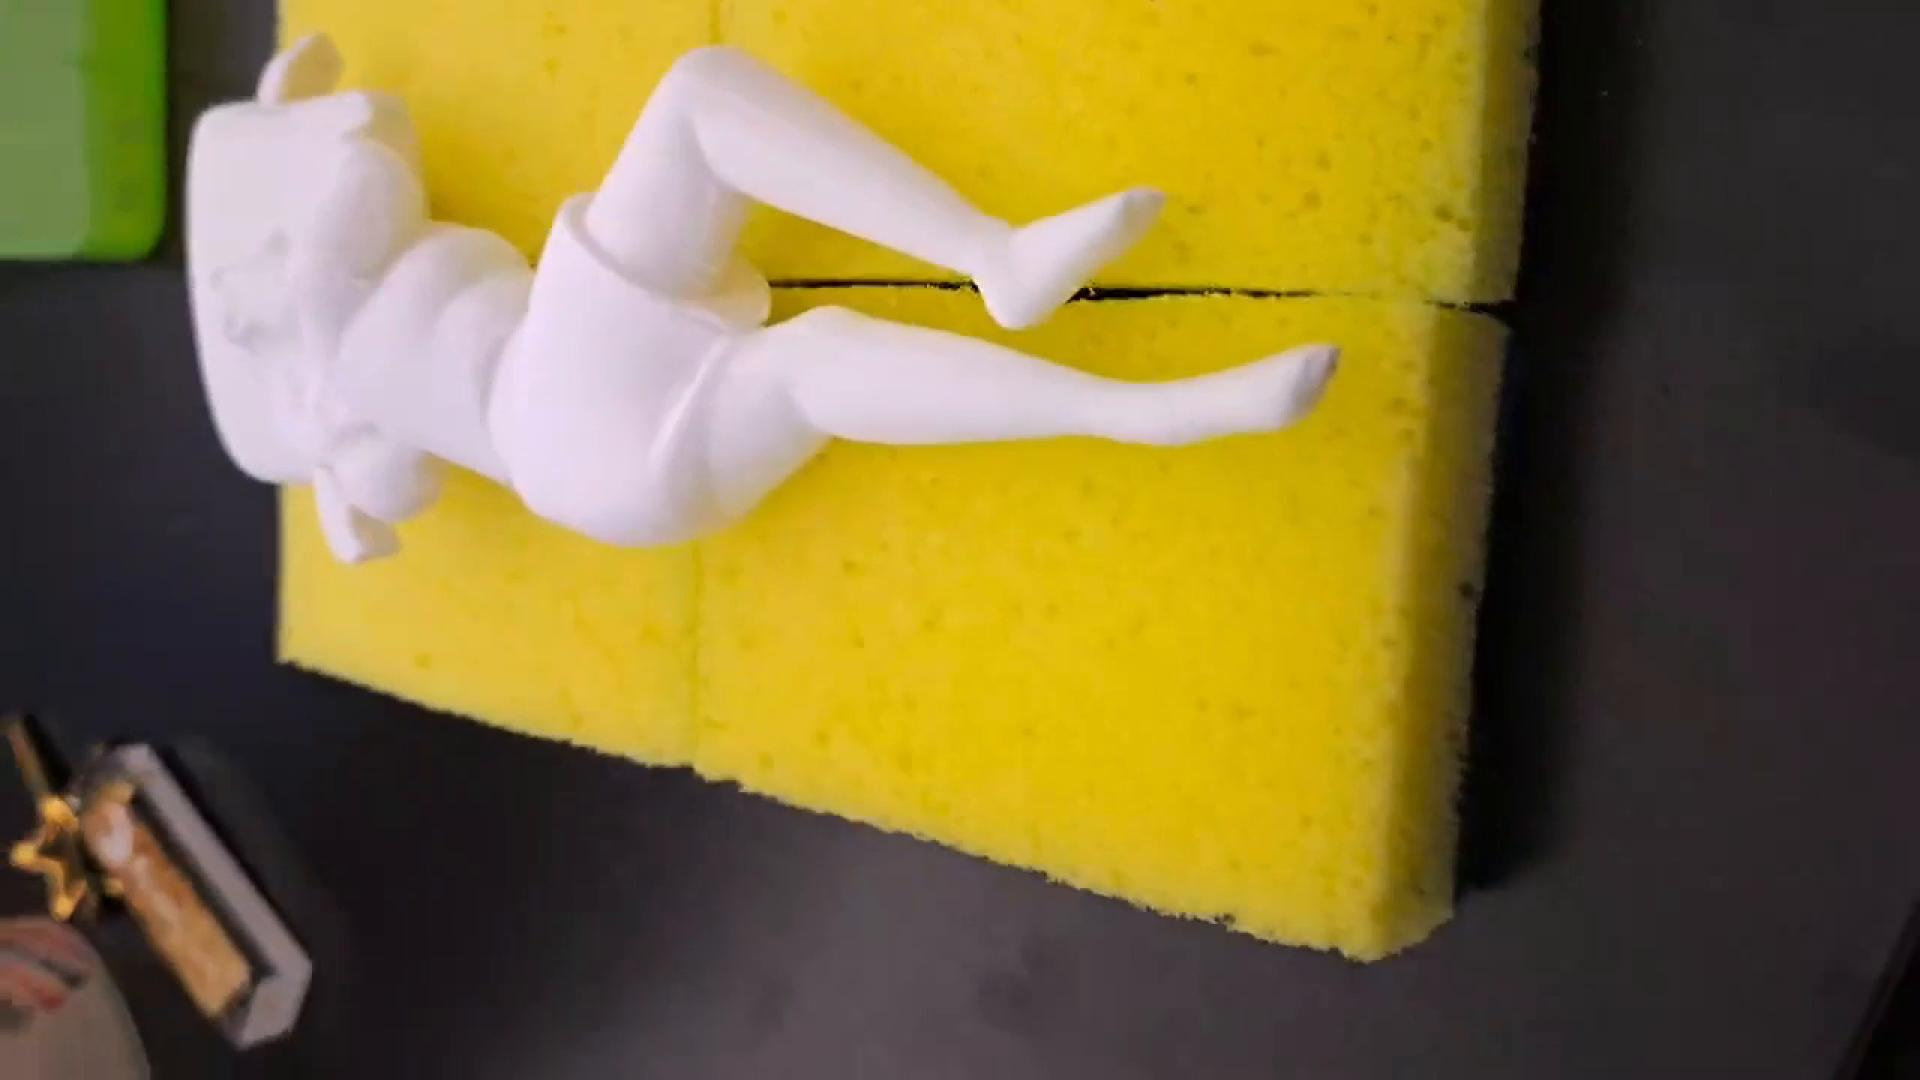Good-style: (183, 32, 1346, 579)
